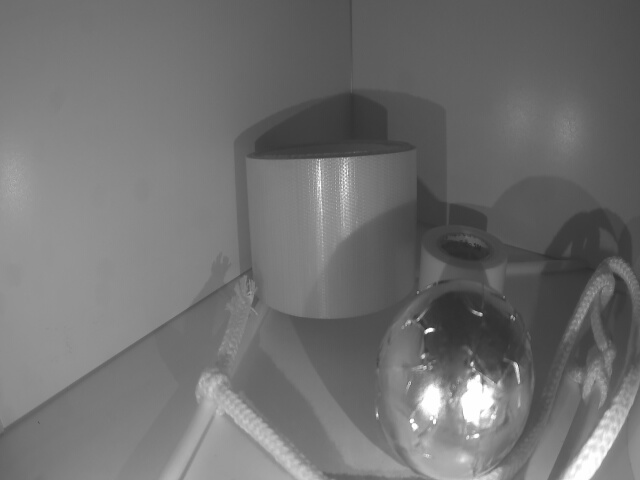Live: (376, 270, 535, 477)
